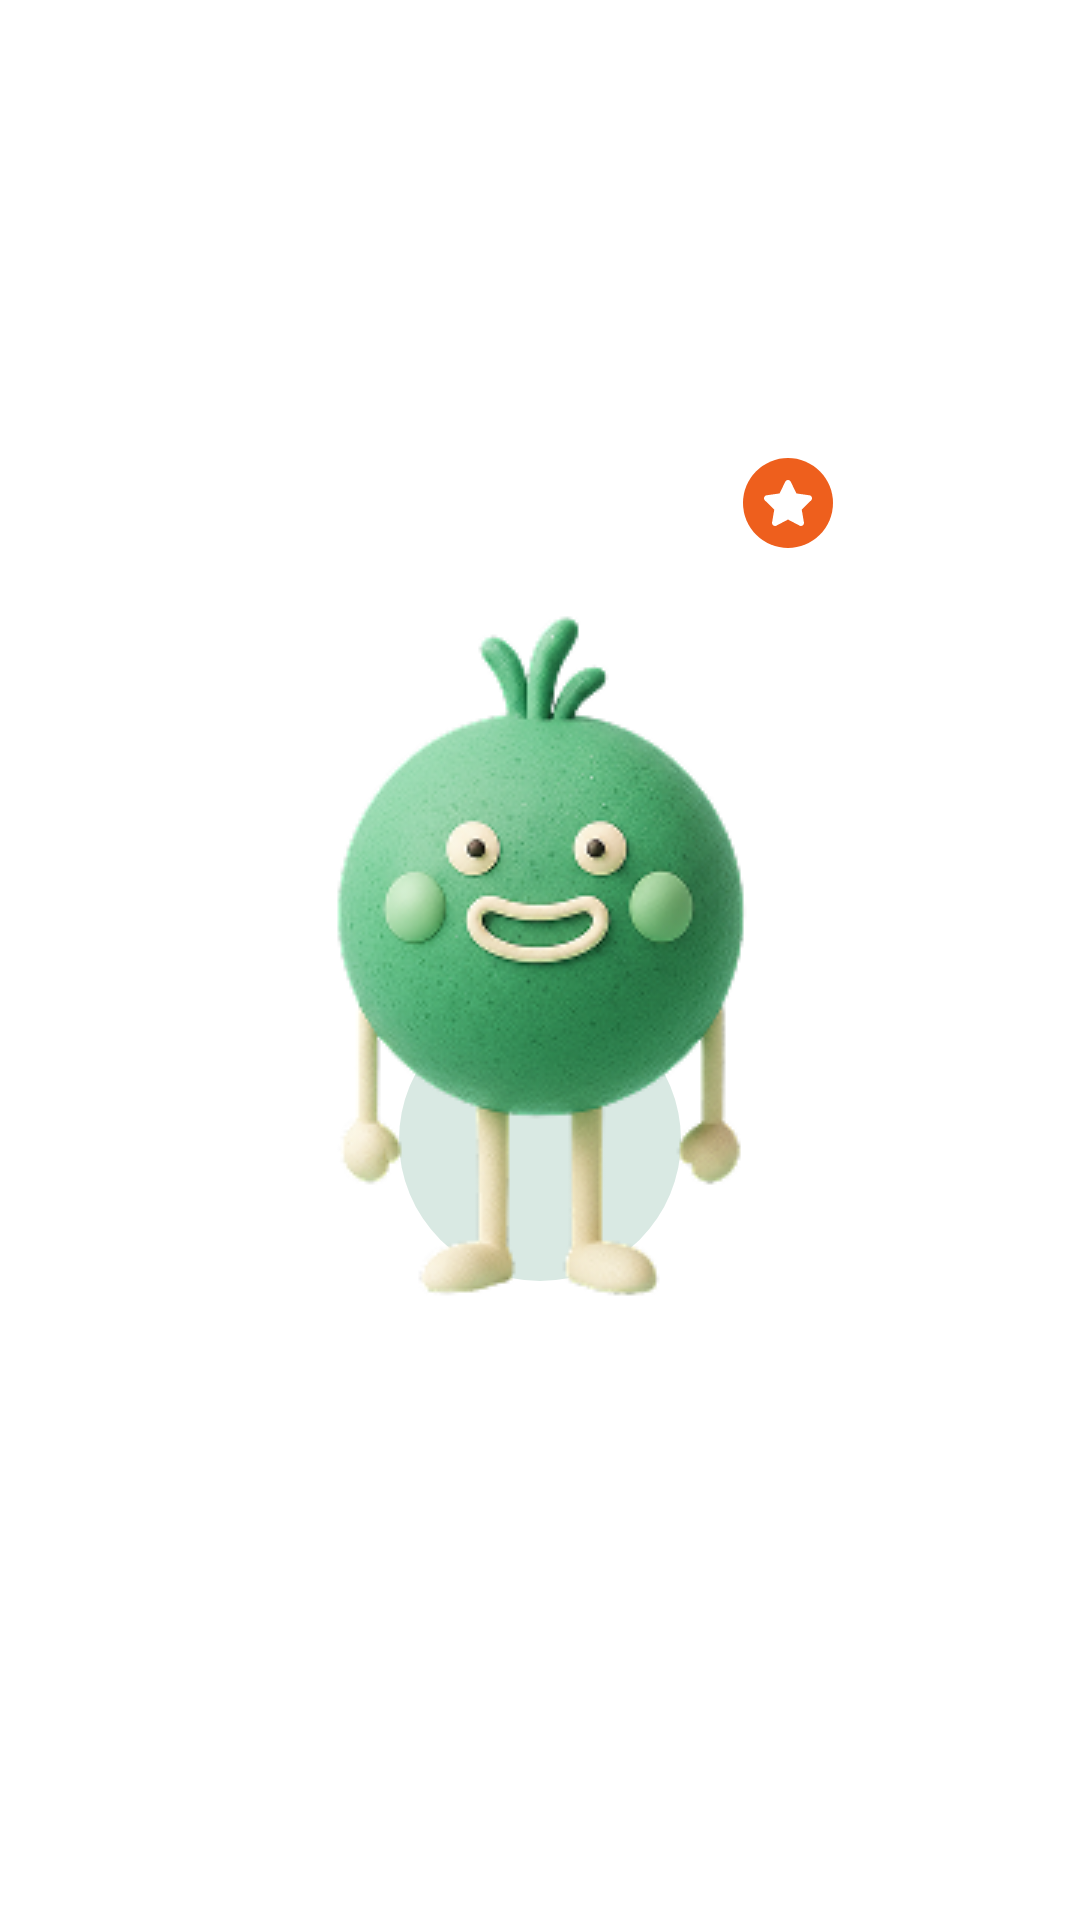

Locate icon controls on the screen. Image size 1080px×1920px, boxes as (x1, y1, x2, y2).
star: (743, 458, 833, 548)
